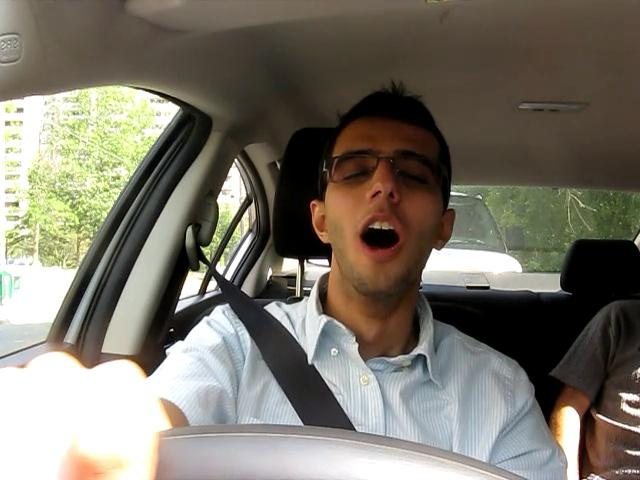close_eyeL: (331, 161, 378, 186)
close_eyeR: (389, 165, 440, 196)
yawn: (343, 215, 417, 260)
